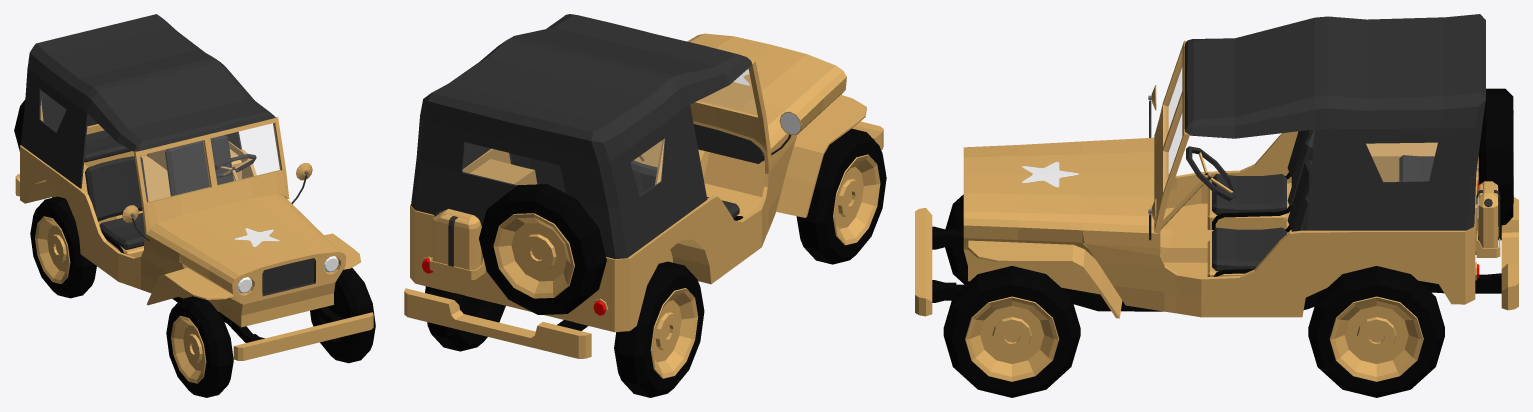
3 views of the same model, side by side, from view 1: azimuth 30°, elevation 25°; view 2: azimuth 150°, elevation 25°; view 3: azimuth 270°, elevation 25° (orthographic). The views are drawn at different scales.
Parts seen in each view (by area): view 1: Plane, Plane.001, Plane.003, Cylinder.002, Cylinder.001, Cylinder; view 2: Plane, Cylinder.005, Cylinder.001, Cylinder.002, Plane.003, Plane.001, Plane.002, Cylinder.003; view 3: Plane, Cylinder, Cylinder.003, Plane.001, Cylinder.005, Plane.003, Plane.002, Cylinder.002.
Boxes of the visible parts, x1,y1,x2,y2 form: Plane: (15,14,373,360); Plane.001: (84,124,256,257); Plane.003: (40,91,280,201); Cylinder.002: (166,296,233,397); Cylinder.001: (30,196,96,298); Cylinder: (310,268,375,363); Plane: (404,14,883,358); Cylinder.005: (479,184,606,314); Cylinder.001: (614,261,704,397); Cylinder.002: (796,128,886,264); Plane.003: (463,70,756,195); Plane.001: (429,153,743,280); Plane.002: (432,209,481,270); Cylinder.003: (425,286,505,351); Plane: (915,14,1518,318); Cylinder: (943,266,1080,397); Cylinder.003: (1308,266,1444,397); Plane.001: (1161,129,1500,276); Cylinder.005: (1478,88,1513,224); Plane.003: (1166,62,1437,181); Plane.002: (1478,181,1498,248); Cylinder.002: (945,194,969,284).
Size of the model in its own units: 142 by 156 by 291.
